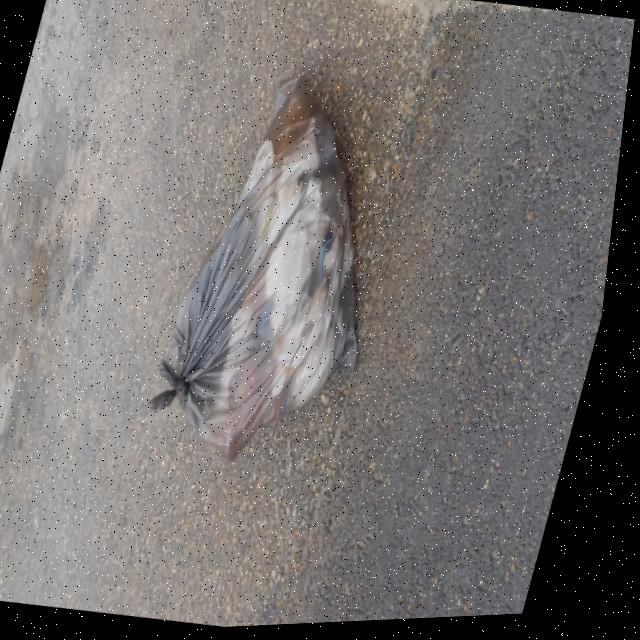Recycled Waste -Grey or Green Bag-: (141, 65, 441, 493)
